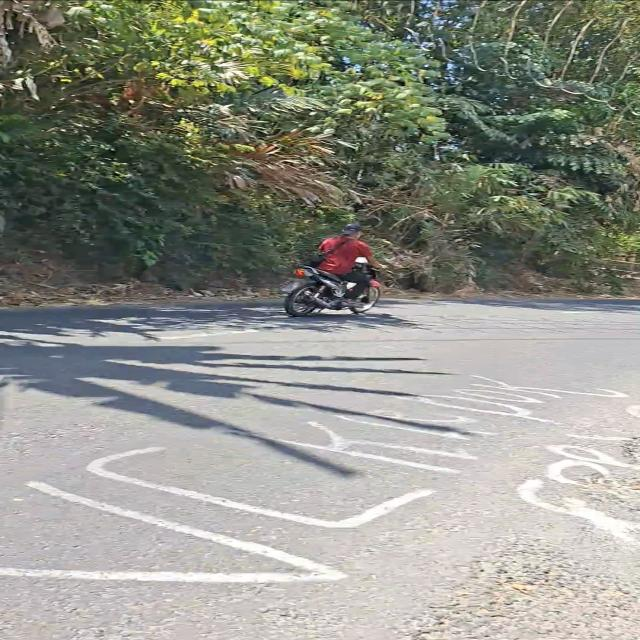WithoutHelmet: (315, 222, 387, 305)
